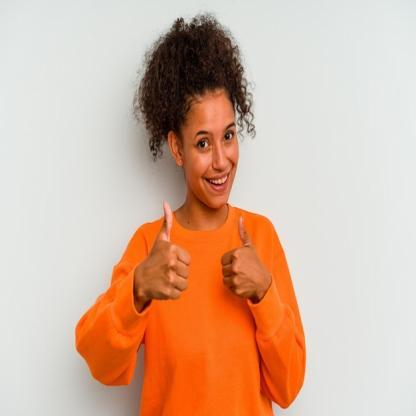thumb_up: (138, 199, 191, 304), (217, 209, 266, 304)
